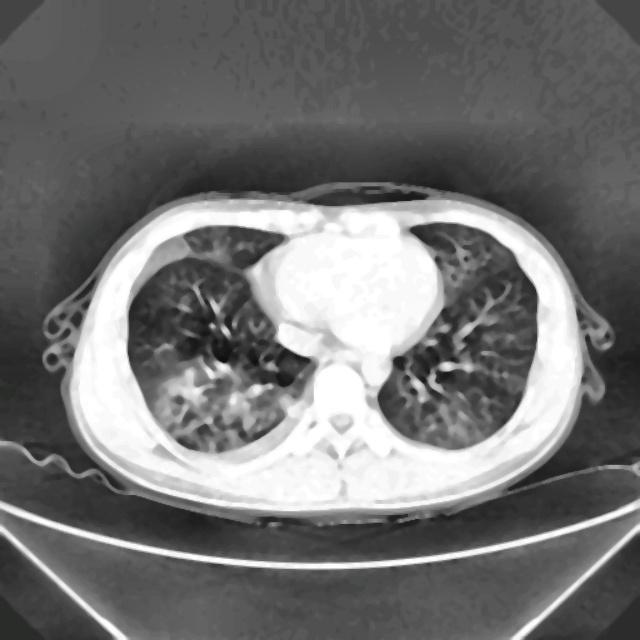covid: (46, 181, 613, 527)
